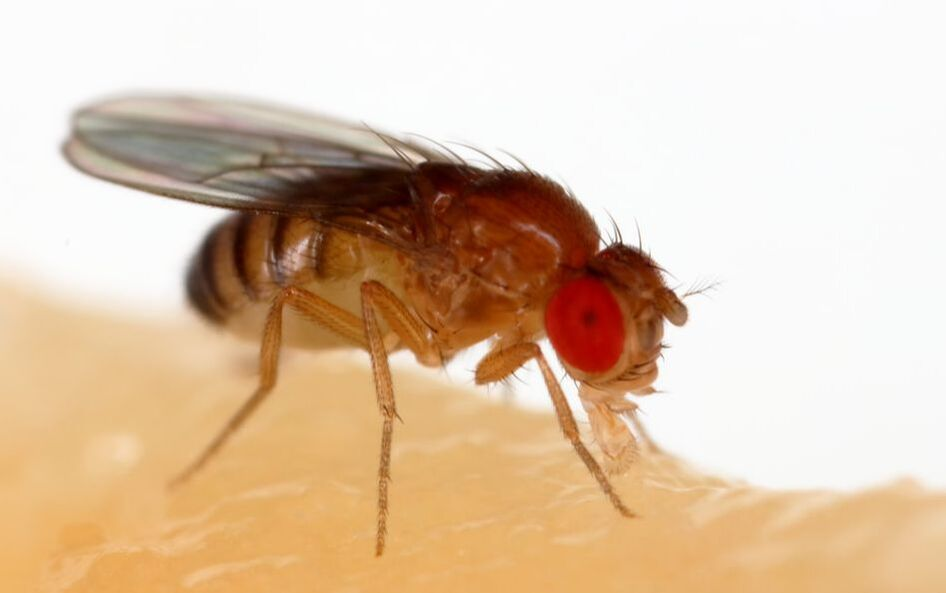Fruit fly: (61, 84, 695, 508)
